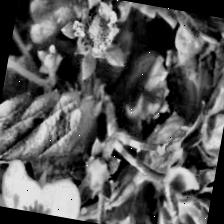Blossom Blight: (65, 0, 120, 57)
